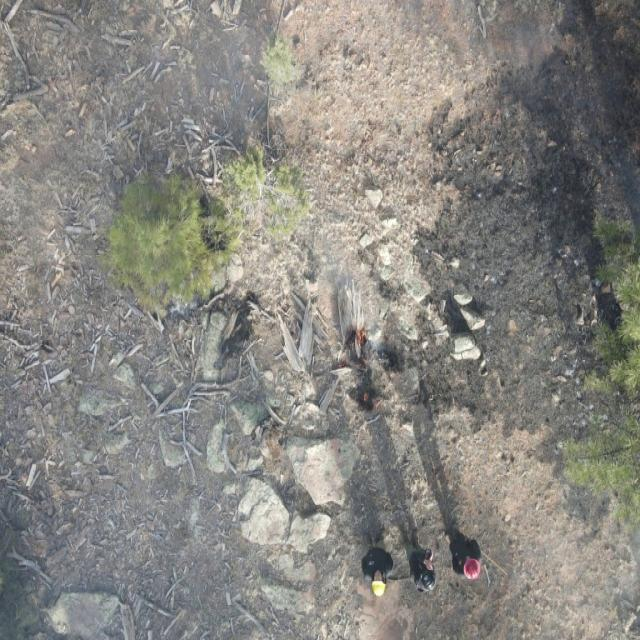fire: (346, 328, 369, 354), (336, 359, 372, 371), (362, 388, 374, 403)
smoke: (0, 0, 261, 640), (470, 0, 640, 238), (262, 188, 395, 436), (524, 490, 640, 639)
